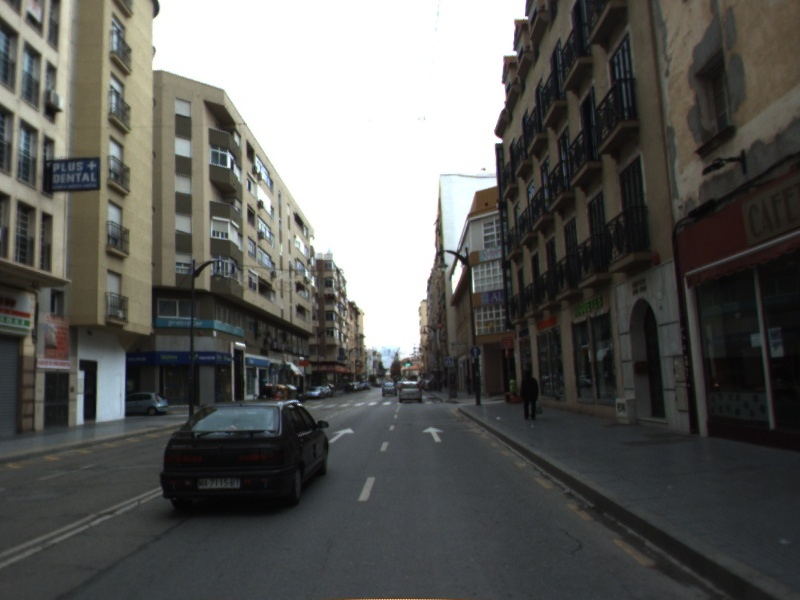STRAIGHT: (327, 426, 356, 444), (420, 425, 446, 444)
